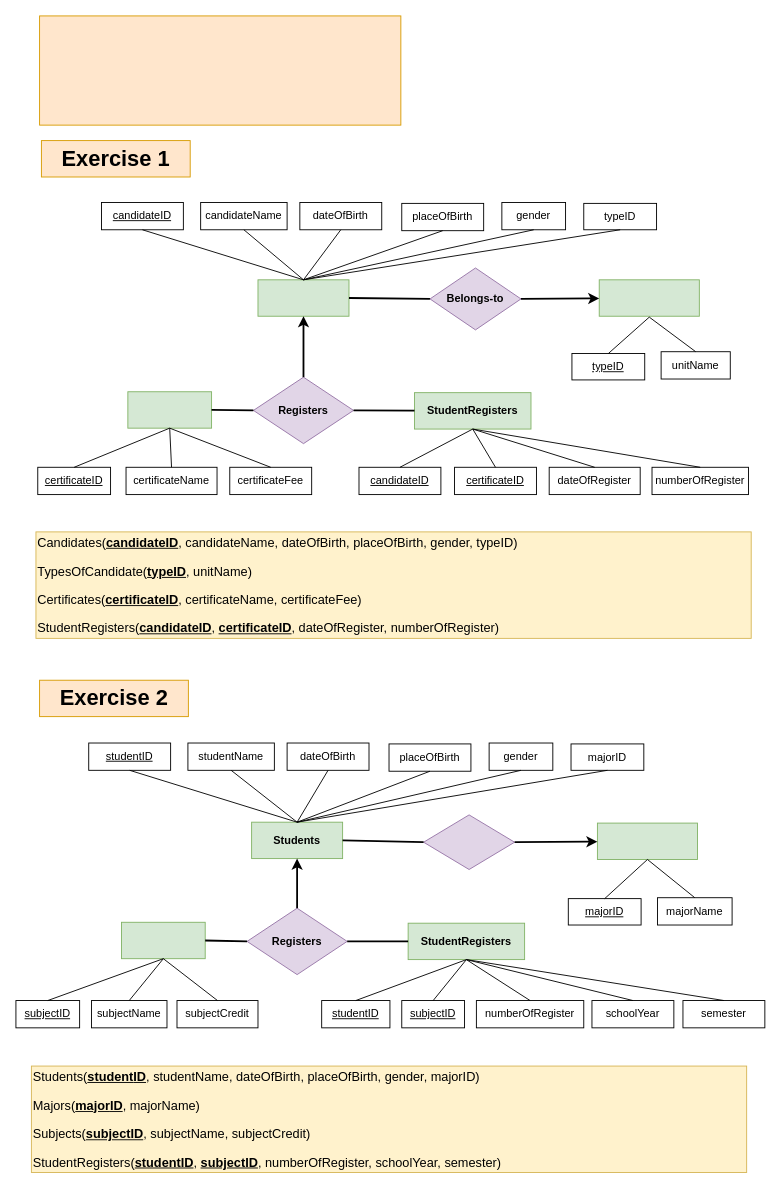
This 781x1188 diagram has some shape labels left out. The shapes that lost their labels are listed below. From the top down, each one's centre as x and y in pixels, then its label:
At [220,70]: "ERD_EXERCISES Student Name: Huỳnh Minh Thuận Student ID: SE171030 Class: SE1749".
At [303,297]: "Candidates".
At [648,297]: "TypesOfCandidate".
At [169,409]: "Certificates".
At [469,842]: "Majors-in".
At [647,840]: "Majors".
At [163,940]: "Subjects".
